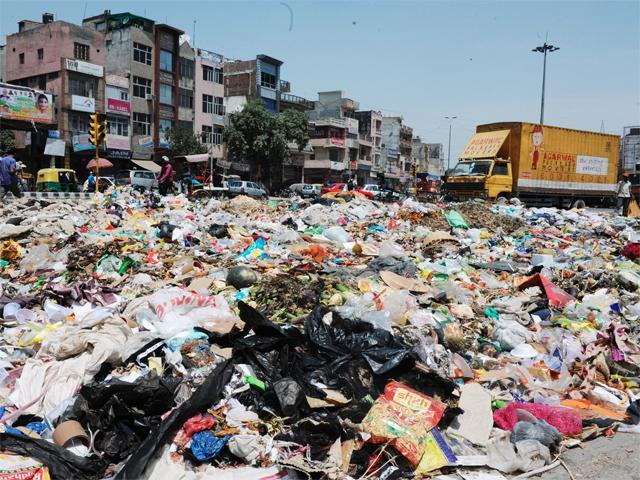garbage: (28, 203, 624, 448)
